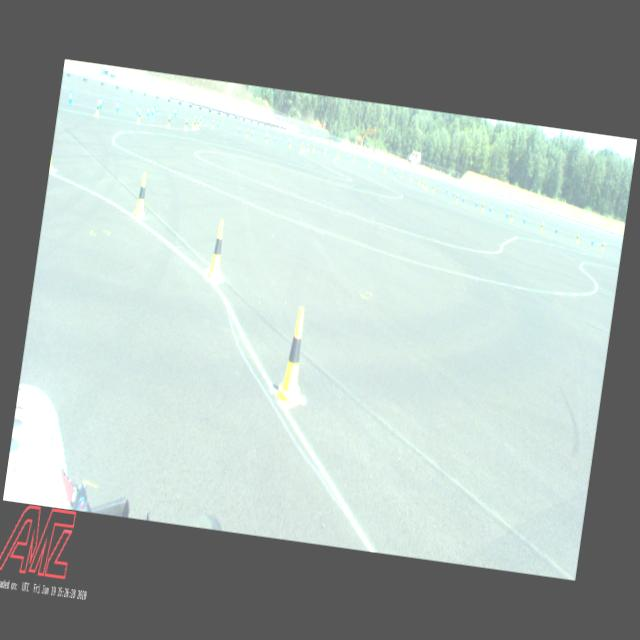blue_cone: (68, 90, 74, 104), (100, 96, 104, 110), (116, 100, 120, 113), (150, 104, 154, 116), (146, 105, 150, 116), (136, 104, 140, 115), (152, 106, 156, 117), (590, 236, 594, 245), (274, 134, 278, 142), (462, 194, 466, 202), (475, 198, 478, 208), (174, 108, 177, 117), (555, 224, 558, 233), (239, 125, 242, 134), (506, 209, 509, 218), (523, 214, 526, 223), (156, 105, 159, 114), (217, 120, 220, 128), (265, 132, 268, 140), (251, 128, 254, 136), (490, 203, 492, 212), (196, 114, 198, 122), (370, 160, 372, 168), (394, 168, 396, 175), (415, 175, 417, 182), (288, 137, 290, 144), (280, 135, 282, 142), (453, 190, 455, 197), (446, 186, 448, 193), (457, 192, 459, 199), (348, 154, 350, 160), (306, 142, 308, 148), (326, 148, 328, 154), (433, 182, 435, 188)
yellow_cone: (272, 306, 316, 410), (207, 218, 230, 282), (134, 172, 150, 218), (95, 100, 102, 116), (136, 109, 142, 124), (166, 114, 172, 128), (184, 118, 189, 130), (192, 118, 196, 130), (576, 233, 580, 243), (481, 202, 485, 212), (246, 128, 250, 138), (601, 241, 605, 251), (540, 222, 544, 231), (212, 119, 216, 128), (312, 144, 316, 152), (192, 116, 195, 126), (197, 118, 200, 128), (510, 212, 513, 221), (289, 139, 292, 148), (199, 116, 202, 125), (266, 134, 269, 143), (425, 182, 428, 190), (400, 170, 403, 178), (301, 142, 304, 150), (432, 185, 435, 193), (456, 194, 459, 202), (409, 174, 412, 182), (418, 178, 421, 185), (307, 144, 310, 150), (368, 160, 370, 168), (384, 165, 386, 172), (338, 151, 340, 158), (422, 180, 424, 187), (324, 147, 326, 154), (353, 156, 355, 162)
